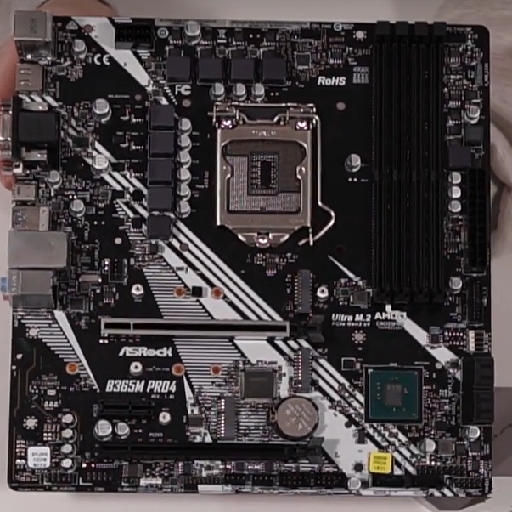CPU: (200, 96, 341, 254)
GPU: (87, 430, 330, 468), (93, 309, 302, 344)
MOTHERBOARD: (6, 11, 498, 492)
RAM: (361, 23, 461, 308)
SSD: (289, 342, 317, 396), (286, 268, 317, 315)
